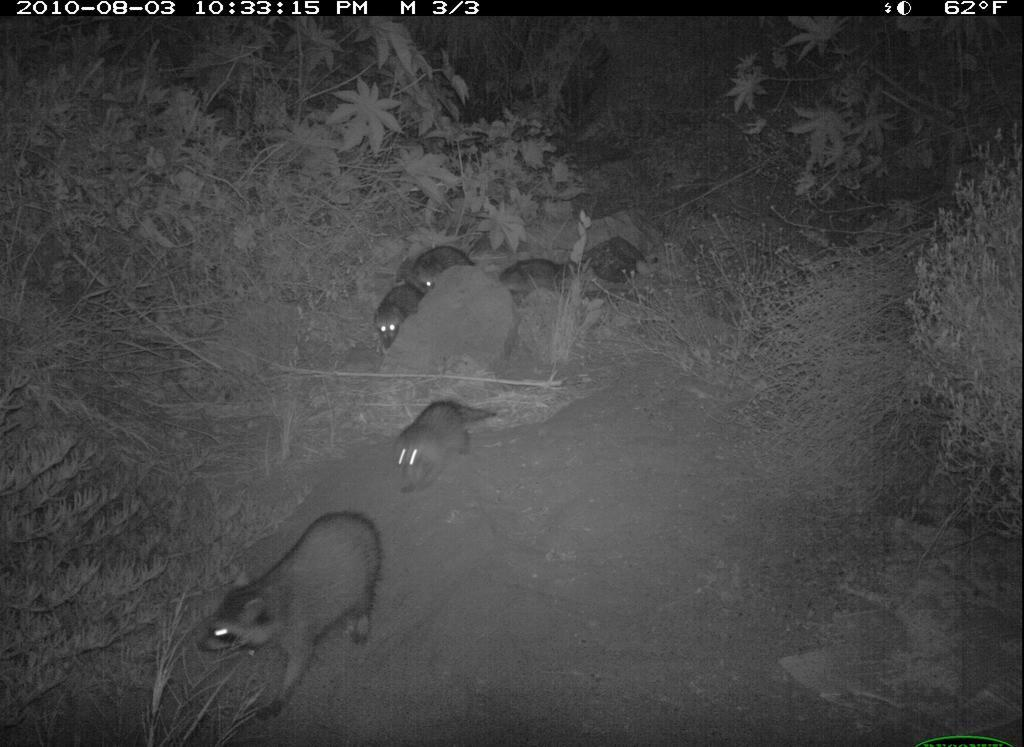raccoon: (195, 506, 396, 729), (392, 396, 505, 496), (495, 249, 584, 308), (368, 281, 431, 356), (406, 244, 478, 300)
